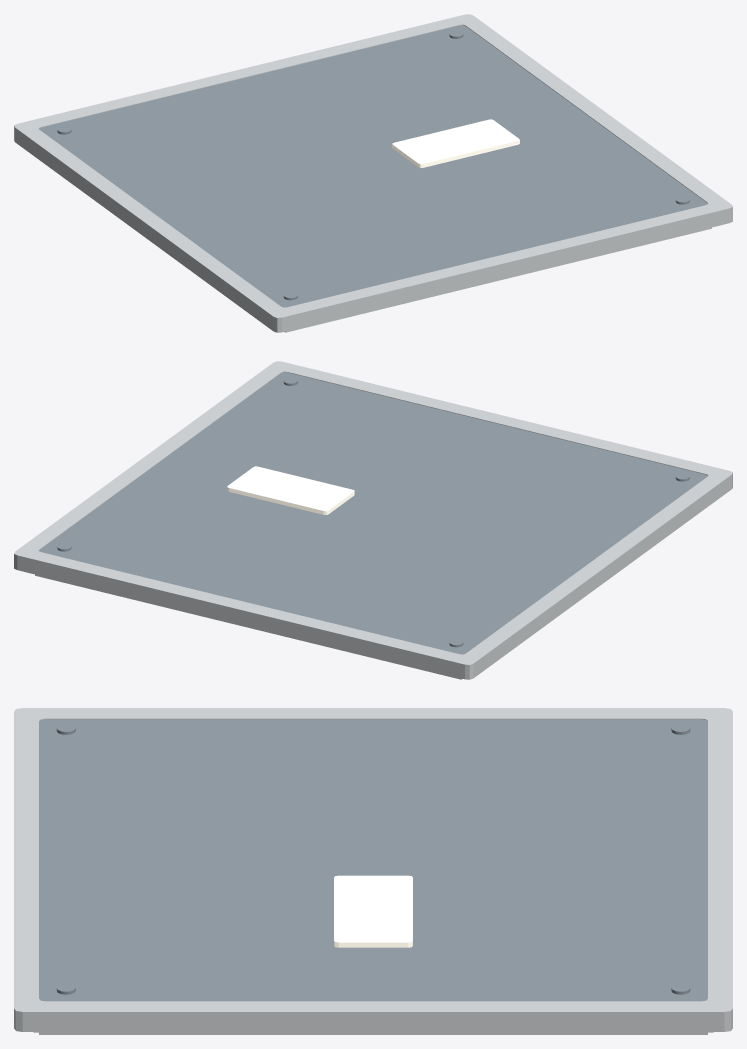
The model's file is source.glb.
The picture shows the model from 3 angles, top to bottom: view 1: azimuth 30°, elevation 25°; view 2: azimuth 150°, elevation 25°; view 3: azimuth 270°, elevation 25°; orthographic projection. The views are drawn at different scales.
Parts seen in each view (by area): view 1: 机加工金属, 粉末涂层铝壳, Emitters; view 2: 机加工金属, 粉末涂层铝壳, Emitters; view 3: 机加工金属, 粉末涂层铝壳, Emitters.
Boxes of the visible parts, <box> form: 机加工金属: <box>39,25,707,307</box>; 粉末涂层铝壳: <box>14,14,732,332</box>; Emitters: <box>392,119,519,167</box>; 机加工金属: <box>39,372,707,654</box>; 粉末涂层铝壳: <box>14,361,732,679</box>; Emitters: <box>227,466,354,514</box>; 机加工金属: <box>39,719,707,1001</box>; 粉末涂层铝壳: <box>14,708,732,1034</box>; Emitters: <box>334,875,412,947</box>.
Size of the model in its own units: 0.595 by 0.0336 by 0.595.
